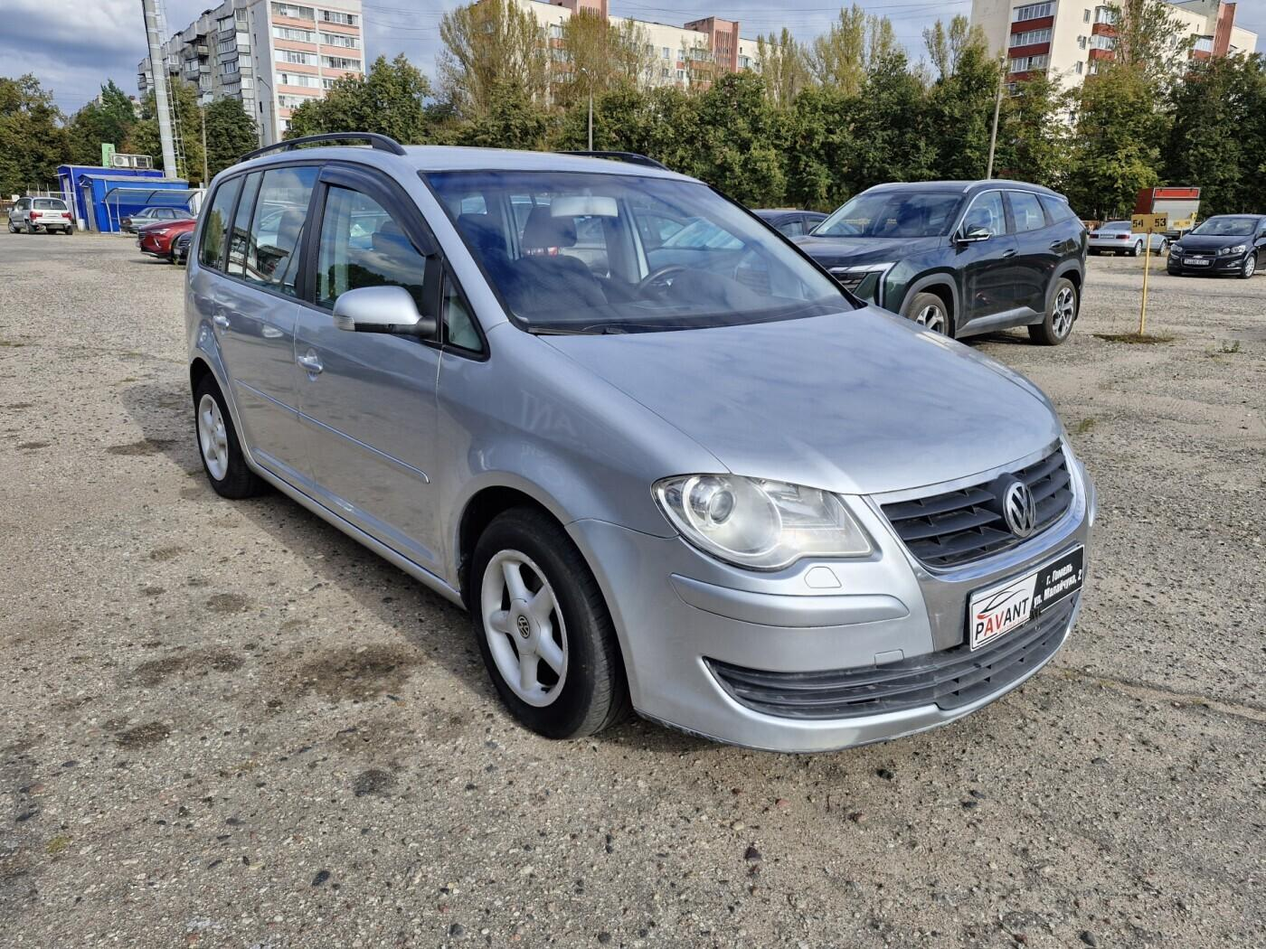Touran_2006-2010: (181, 138, 1099, 754)
